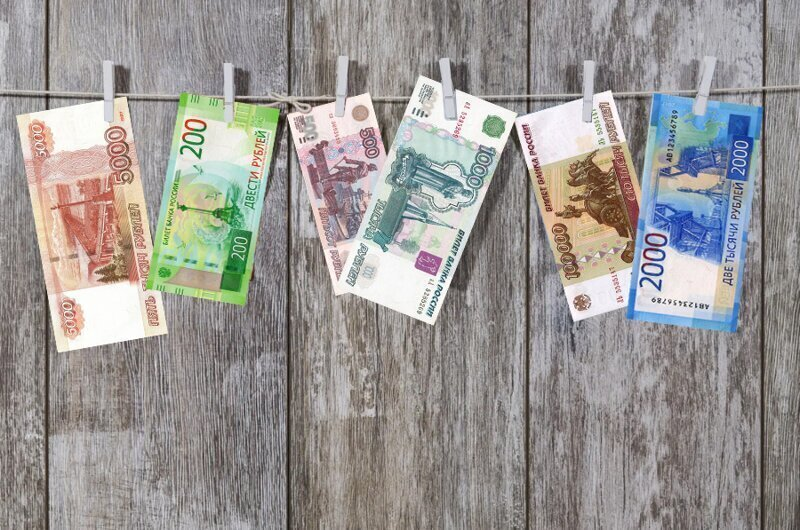cash: (337, 74, 516, 324), (15, 97, 168, 354), (625, 92, 764, 332), (514, 89, 640, 321), (146, 92, 280, 305), (287, 92, 386, 301)
